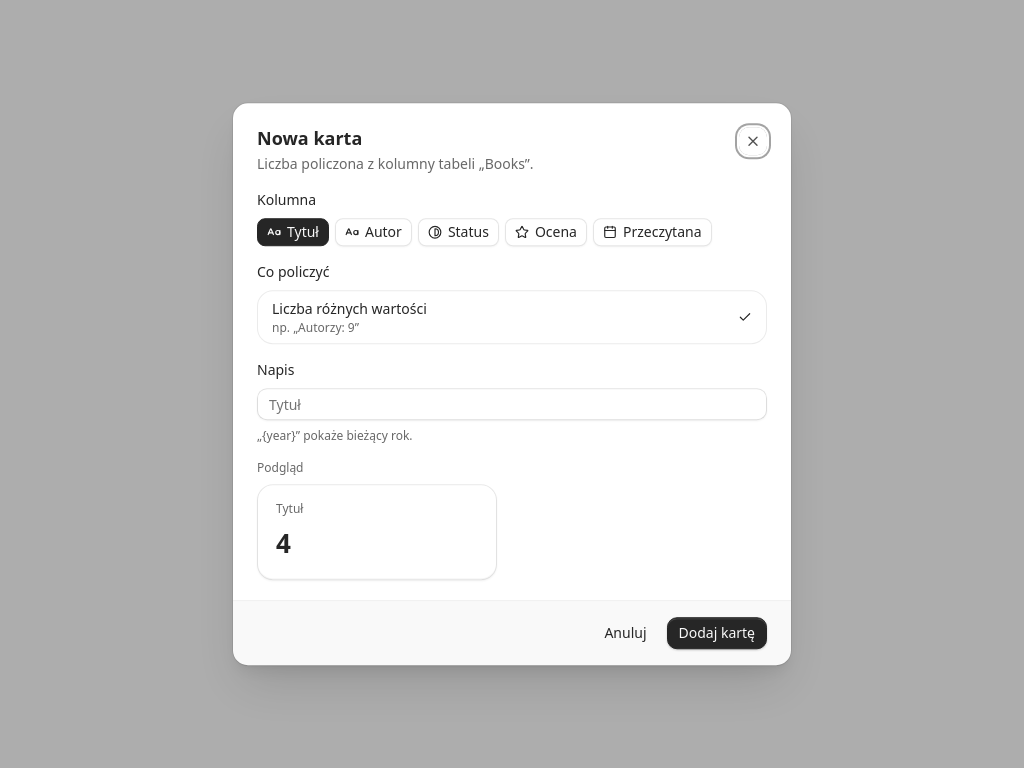
Test: CardDialog › kolumna bez opcji wyłącza „Dodaj kartę”
This screenshot has width=1024, height=768.
Click the radio button labelled "Status". click: {"x": 458, "y": 233}
box: [418, 219, 499, 247]
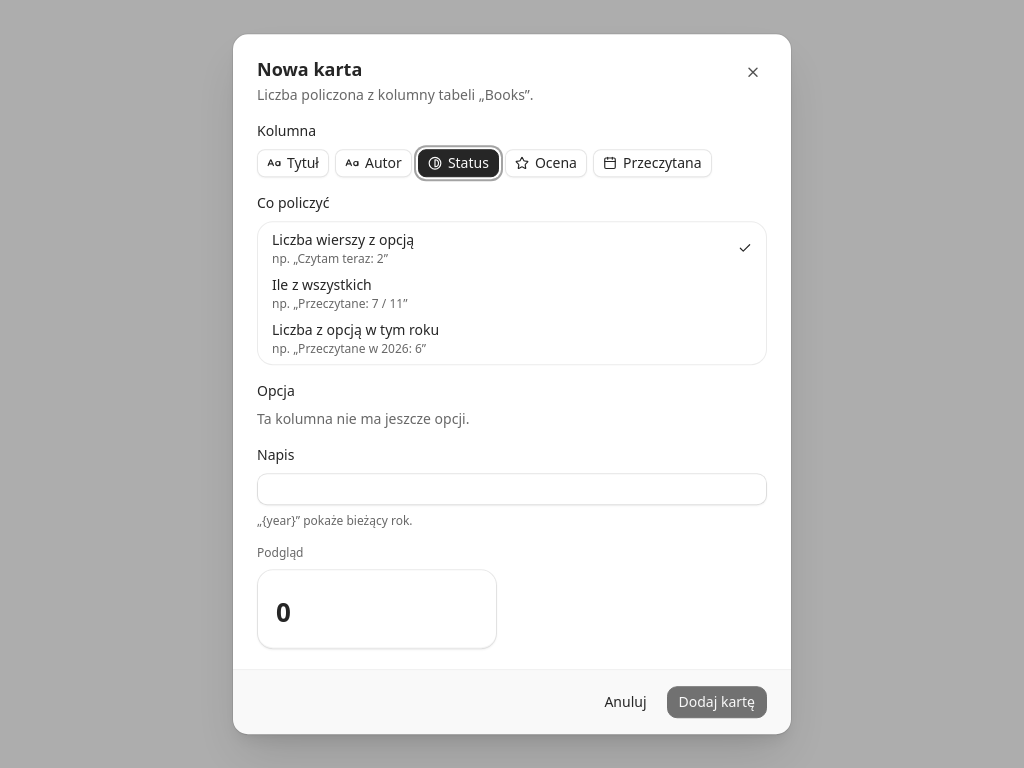
Check: the button "Dodaj kartę" is disabled, box [666, 686, 767, 718]
